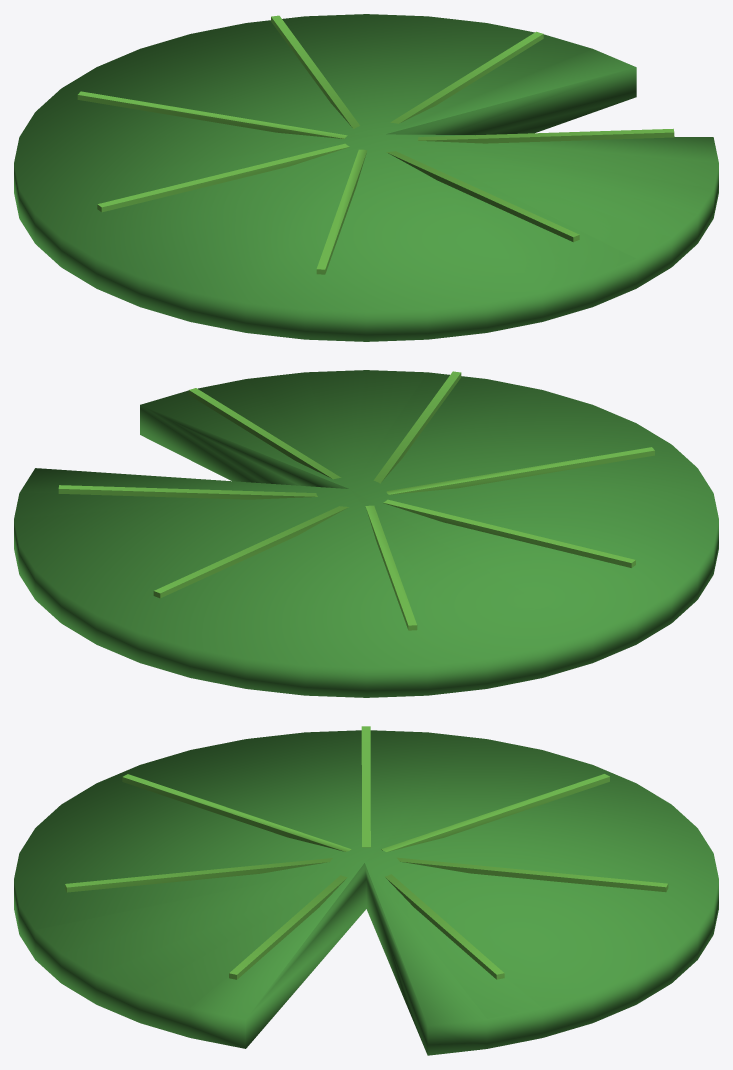
The model's file is glade_lily_pad.glb.
3 renders of one model, top to bottom at view 1: azimuth 30°, elevation 25°; view 2: azimuth 150°, elevation 25°; view 3: azimuth 270°, elevation 25°, orthographic.
Parts seen in each view (by area): view 1: glade_lily_pad; view 2: glade_lily_pad; view 3: glade_lily_pad.
Part boxes in pixels (<box>): glade_lily_pad: <box>14,14,718,341</box>; glade_lily_pad: <box>14,370,718,697</box>; glade_lily_pad: <box>14,726,718,1055</box>.
Size of the model in its own units: 5.77 by 0.5 by 5.82.
